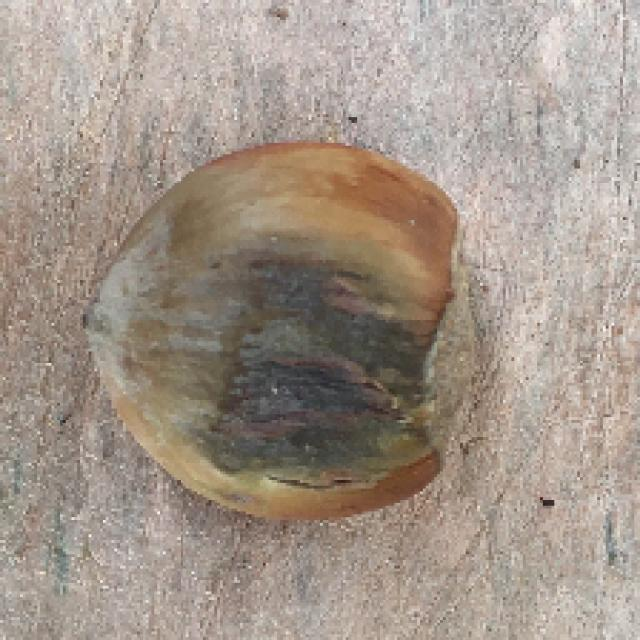DamagedHazelnut: (81, 137, 484, 516)
